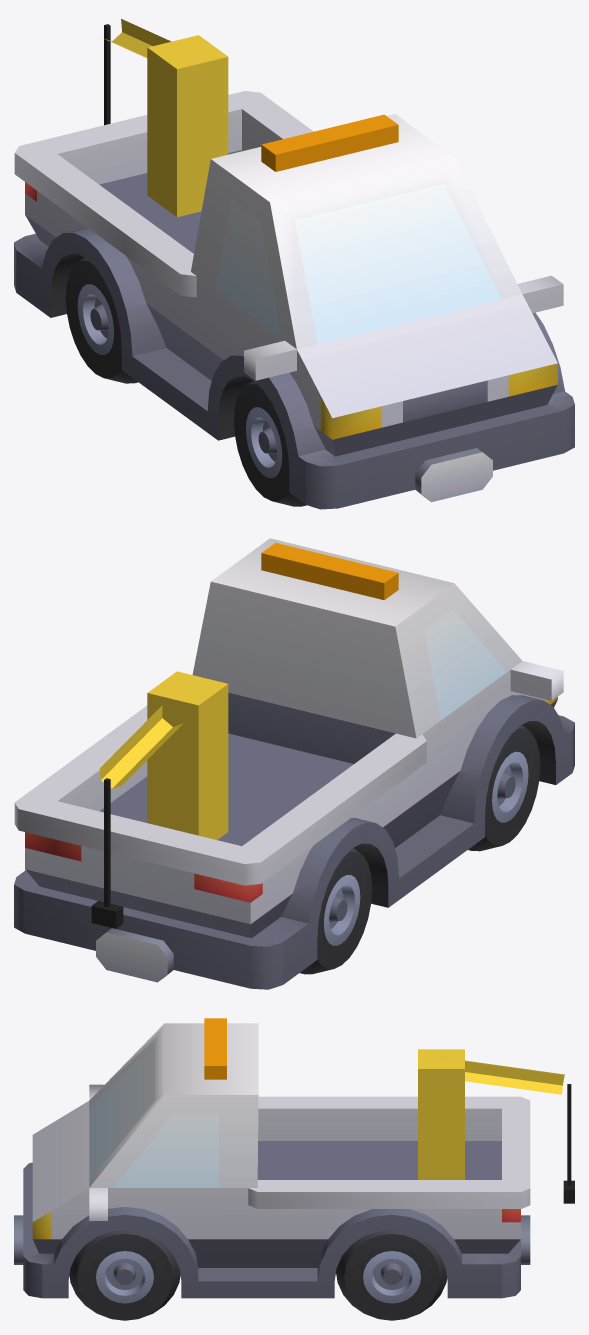
Rendered from bargningsbil.glb.
3 renders of one model, top to bottom at view 1: azimuth 30°, elevation 25°; view 2: azimuth 150°, elevation 25°; view 3: azimuth 270°, elevation 25°, orthographic. The views are drawn at different scales.
Visible parts, largest first — view 1: body, till-bargningsbil, wheel-back-right, wheel-front-right; view 2: body, till-bargningsbil, wheel-front-right, wheel-back-right; view 3: body, till-bargningsbil, wheel-front-left, wheel-back-left.
Boxes of the visible parts, box(x1,y1,x2,y2) form: body: box(14, 91, 574, 509); till-bargningsbil: box(103, 19, 398, 217); wheel-back-right: box(65, 257, 137, 383); wheel-front-right: box(234, 380, 306, 506); body: box(14, 538, 574, 989); till-bargningsbil: box(91, 542, 398, 928); wheel-front-right: box(468, 725, 540, 851); wheel-back-right: box(300, 847, 372, 974); body: box(14, 1023, 530, 1298); till-bargningsbil: box(204, 1018, 574, 1203); wheel-front-left: box(69, 1230, 180, 1320); wheel-back-left: box(336, 1230, 446, 1320).
Bounding box in the file's own units: 1.5 × 1.4 × 2.98.
4 materials, 1 textured.
